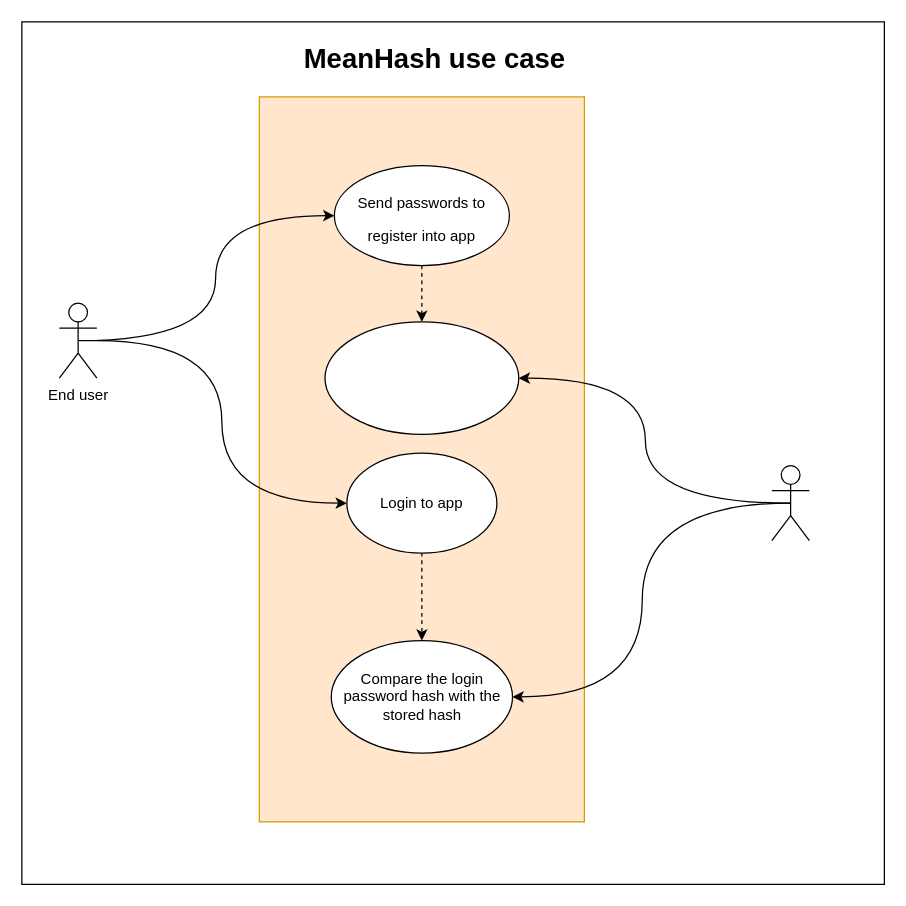
Image size: 906x906. Some labels were removed from this diagram. The centre of each missing label's shape, as x and y in pixels:
"App's Backend" belongs at (x=790, y=502).
"Hash the password and store it in a database" belongs at (x=421, y=377).
